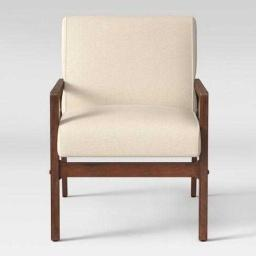Chair: (51, 14, 209, 248)
